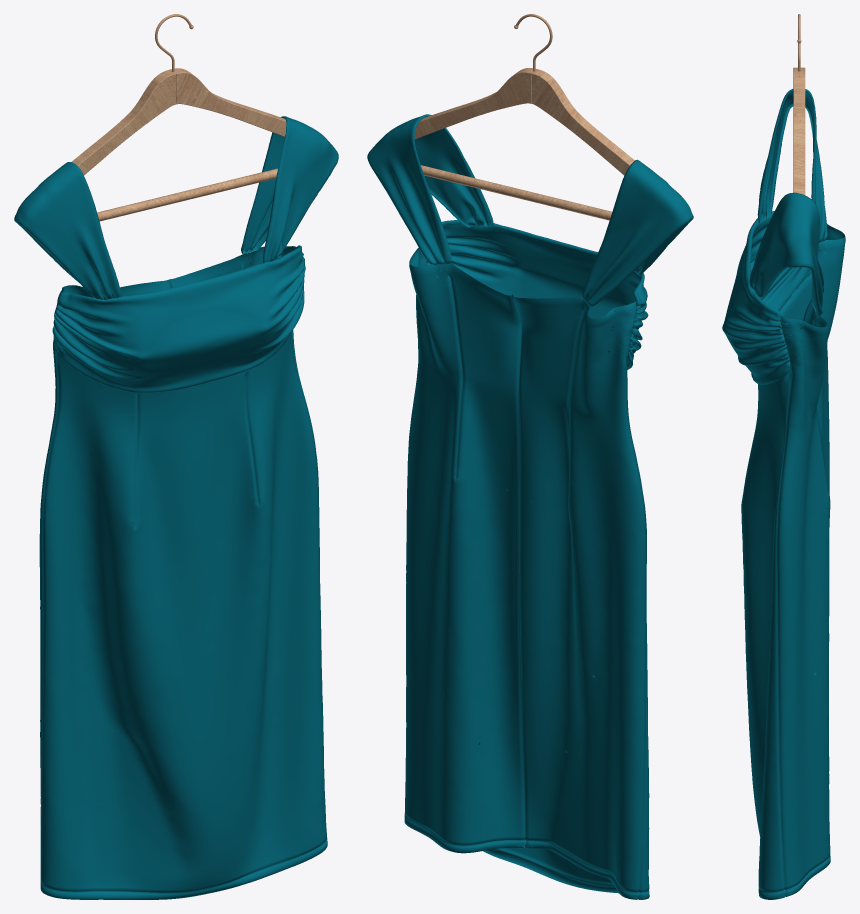
3 renders of one model, left to right at view 1: azimuth 30°, elevation 25°; view 2: azimuth 150°, elevation 25°; view 3: azimuth 270°, elevation 25°, orthographic. The views are drawn at different scales.
Parts seen in each view (by area): view 1: clothing_set-14-022, clothing_set-14-hanger-022; view 2: clothing_set-14-022, clothing_set-14-hanger-022; view 3: clothing_set-14-022, clothing_set-14-hanger-022.
Part boxes in pixels (<box>): clothing_set-14-022: <box>14,116,338,899</box>; clothing_set-14-hanger-022: <box>72,14,286,221</box>; clothing_set-14-022: <box>367,114,693,899</box>; clothing_set-14-hanger-022: <box>414,14,634,220</box>; clothing_set-14-022: <box>722,89,845,899</box>; clothing_set-14-hanger-022: <box>793,14,805,195</box>.
Size of the model in its own units: 1.43 by 3.7 by 0.4938.
2 materials, 1 textured.
